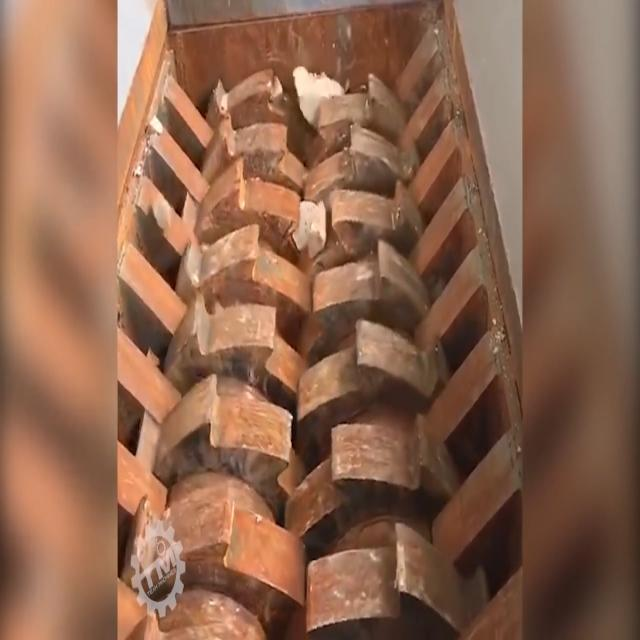Broyeur: (112, 0, 526, 640)
